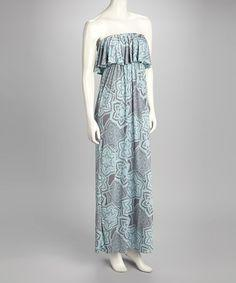C_dress: (88, 32, 159, 263)
C_tank top: (79, 22, 160, 74)
